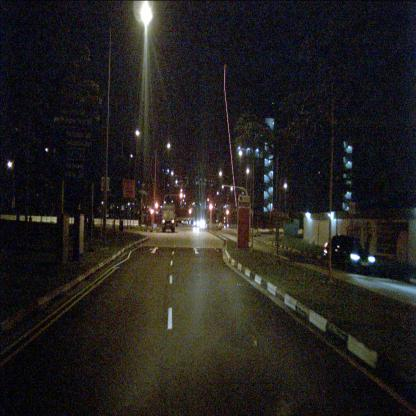vehicle-car: (323, 234, 375, 276), (205, 220, 222, 231), (200, 218, 206, 228), (193, 219, 200, 227)
vehicle-truck: (161, 203, 176, 232)
